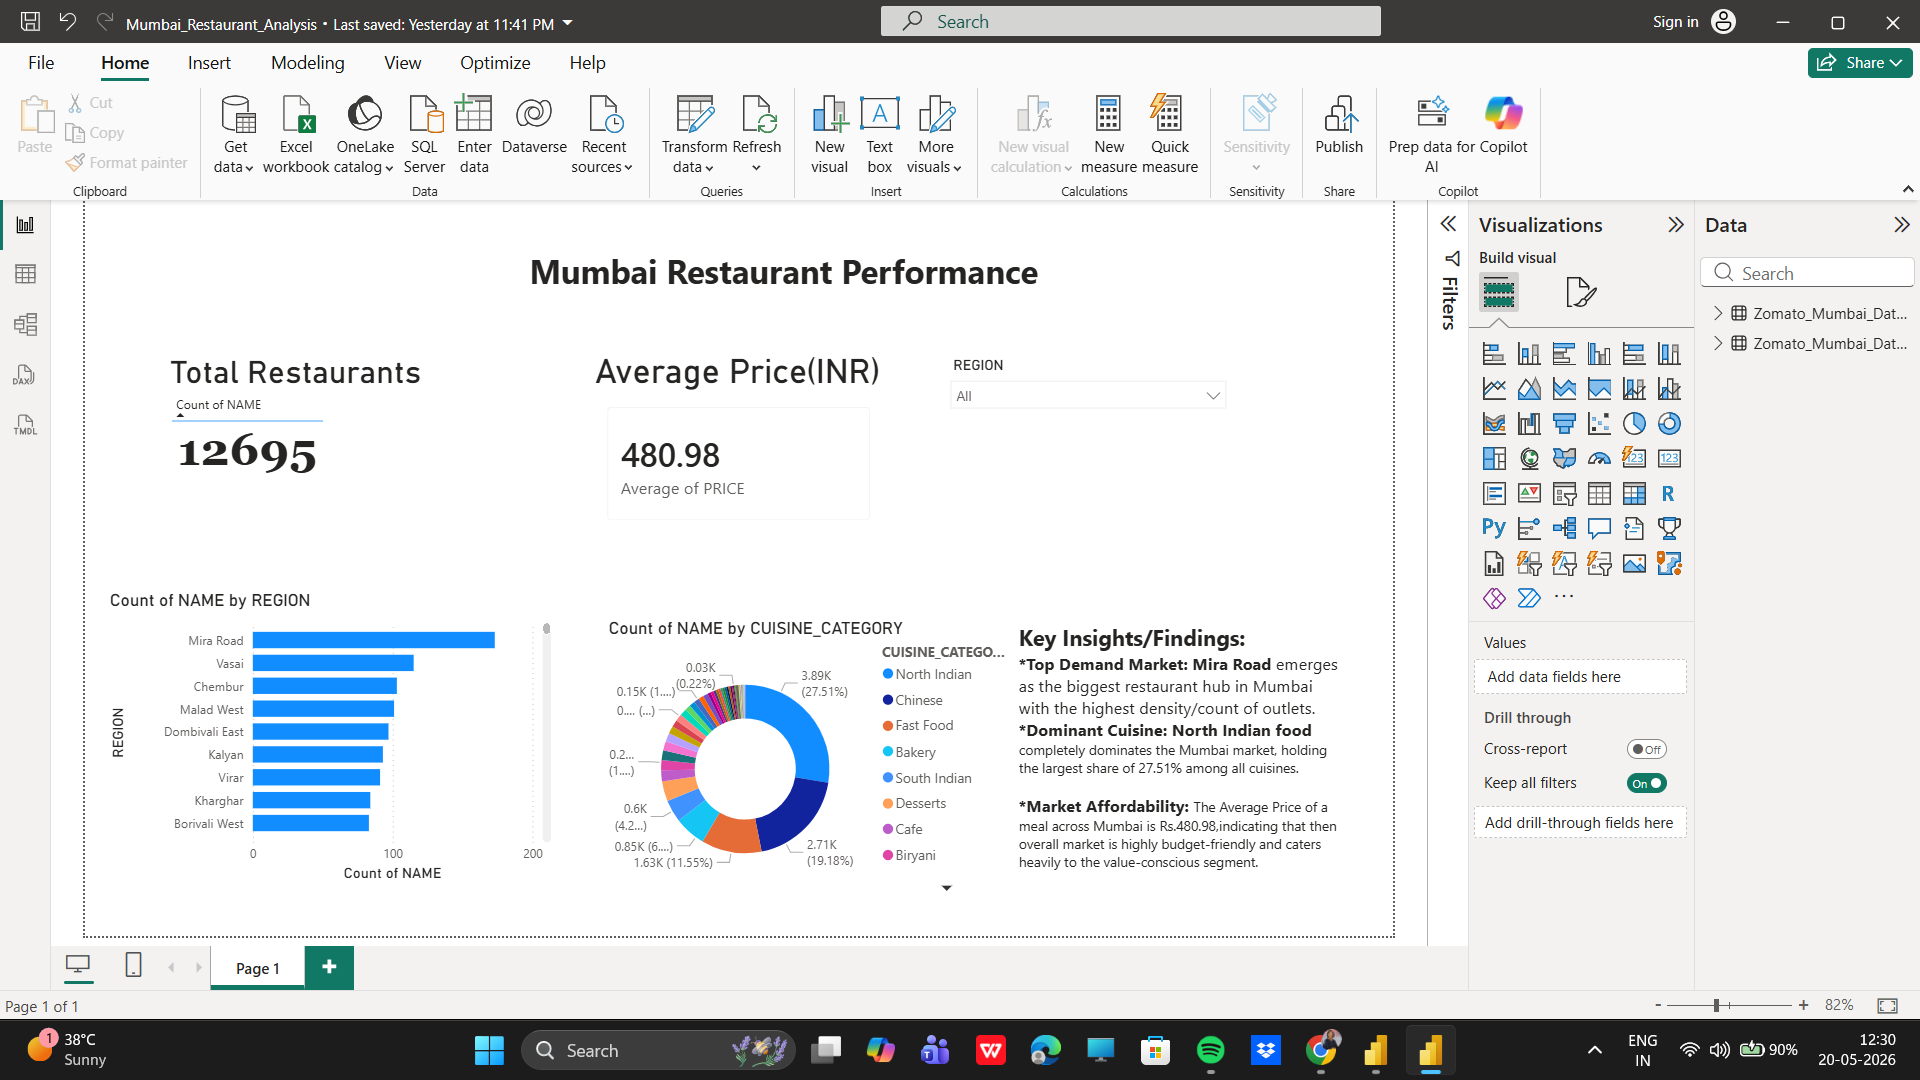

The dashboard page shown, as its layout file describes it:
{"tool":"powerbi","page":{"name":"Page 1","canvas":[1280,720],"ordinal":0},"visuals":[{"type":"tableEx","title":"Total Restaurants","fields":{"Values":["Zomato_Mumbai_Dataset.NAME"]},"box":[78.3,150.4,289.8,184.6],"z":0},{"type":"barChart","fields":{"Category":["Zomato_Mumbai_Dataset.REGION"],"Y":["CountNonNull(Zomato_Mumbai_Dataset.NAME)"]},"box":[19.6,381.5,441.4,289.8],"z":1000},{"type":"cardVisual","title":"Average Price(INR)","fields":{"Data":["Avg(Zomato_Mumbai_Dataset.PRICE)"]},"box":[493.7,148.5,291.5,182.9],"z":2000},{"type":"donutChart","fields":{"Category":["Zomato_Mumbai_Dataset.CUISINE_CATEGORY"],"Y":["CountNonNull(Zomato_Mumbai_Dataset.NAME)"]},"box":[507.5,408.4,402.3,277.6],"z":3000},{"type":"textbox","box":[412.5,42.6,543.2,107.3],"z":3001},{"type":"slicer","fields":{"Values":["Zomato_Mumbai_Dataset.REGION"]},"box":[836.4,148,289.8,150.4],"z":3002},{"type":"textbox","box":[78,0,290,150],"z":3003},{"type":"textbox","box":[966,20.5,314,150],"z":3004},{"type":"textbox","box":[908.6,408.4,324.1,289.8],"z":3005}]}

Visuals, with their boxes on the page's 1280x720 design canvas (x1, y1, x2, y2). These are canvas units, not pixel positions in the 1920x1080 screenshot, which may show the page scaled, cropped or inside an application window:
"Total Restaurants" tableEx: l=78, t=150, r=368, b=335
barChart - Zomato_Mumbai_Dataset.REGION x CountNonNull(Zomato_Mumbai_Dataset.NAME): l=20, t=382, r=461, b=671
"Average Price(INR)" cardVisual: l=494, t=148, r=785, b=331
donutChart - Zomato_Mumbai_Dataset.CUISINE_CATEGORY x CountNonNull(Zomato_Mumbai_Dataset.NAME): l=508, t=408, r=910, b=686
textbox: l=412, t=43, r=956, b=150
slicer - Zomato_Mumbai_Dataset.REGION: l=836, t=148, r=1126, b=298
textbox: l=78, t=0, r=368, b=150
textbox: l=966, t=20, r=1280, b=170
textbox: l=909, t=408, r=1233, b=698
